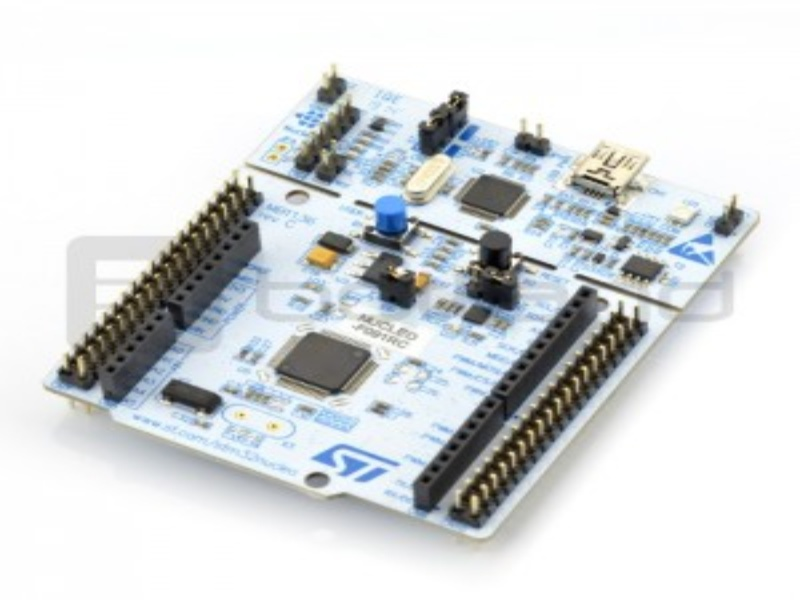stmnucleo: (81, 47, 748, 533)
